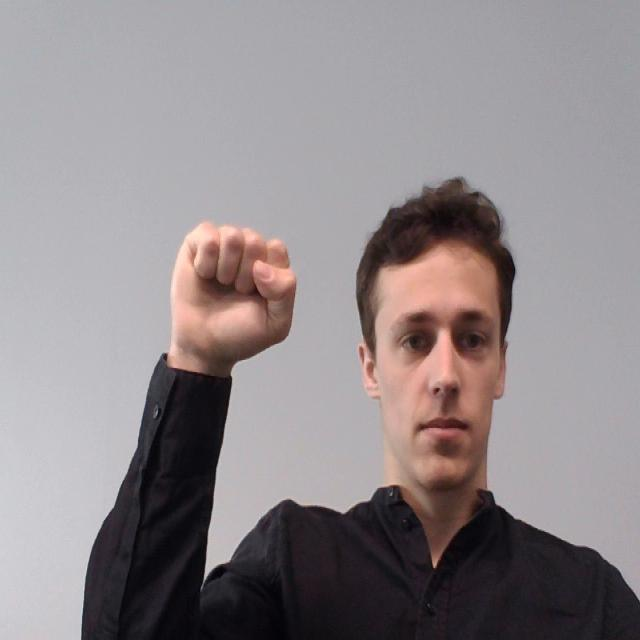stop: (165, 215, 305, 372)
